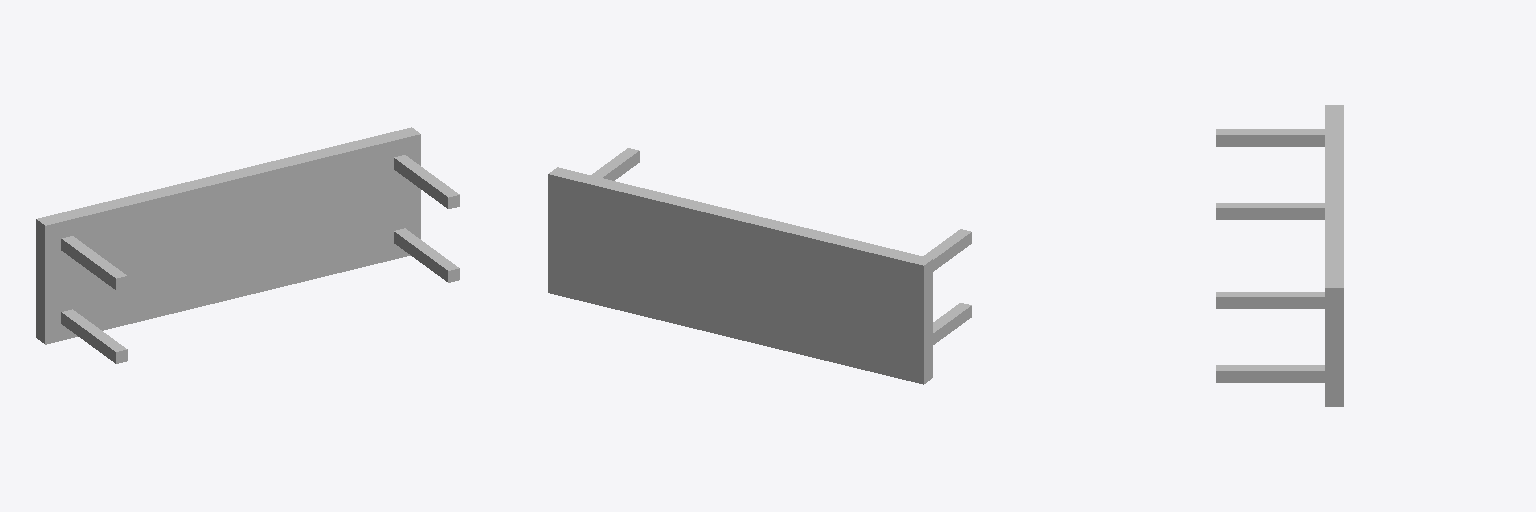
Rendered from random_table32.obj.
The picture shows the model from 3 angles: view 1: azimuth 30°, elevation 25°; view 2: azimuth 150°, elevation 25°; view 3: azimuth 270°, elevation 25°; orthographic projection.
Visible parts, largest first — view 1: Table_Cube.355, TableLeg3_Cube.359, TableLeg1_Cube.357, TableLeg2_Cube.358, TableLeg0_Cube.356; view 2: Table_Cube.355, TableLeg1_Cube.357, TableLeg3_Cube.359, TableLeg0_Cube.356; view 3: Table_Cube.355, TableLeg1_Cube.357, TableLeg2_Cube.358, TableLeg0_Cube.356, TableLeg3_Cube.359.
Boxes of the visible parts, box(x1,y1,x2,y2) form: Table_Cube.355: box(36, 127, 420, 344); TableLeg3_Cube.359: box(61, 309, 127, 363); TableLeg1_Cube.357: box(61, 236, 127, 289); TableLeg2_Cube.358: box(394, 228, 459, 282); TableLeg0_Cube.356: box(394, 155, 459, 208); Table_Cube.355: box(548, 167, 932, 384); TableLeg1_Cube.357: box(923, 229, 971, 271); TableLeg3_Cube.359: box(933, 303, 971, 344); TableLeg0_Cube.356: box(591, 148, 639, 180); Table_Cube.355: box(1325, 105, 1343, 406); TableLeg1_Cube.357: box(1216, 129, 1324, 146); TableLeg2_Cube.358: box(1216, 365, 1324, 382); TableLeg0_Cube.356: box(1216, 292, 1324, 308); TableLeg3_Cube.359: box(1216, 203, 1324, 219).
Size of the model in its own units: 13.23 by 4 by 3.9.